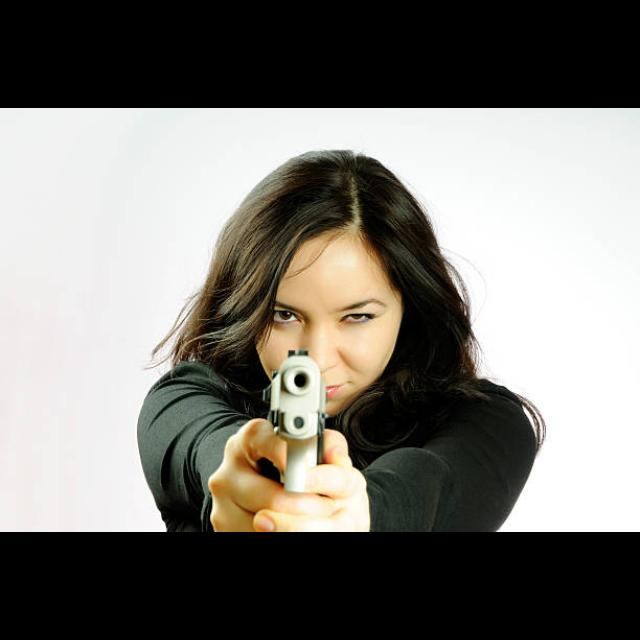handgun: (261, 344, 333, 500)
